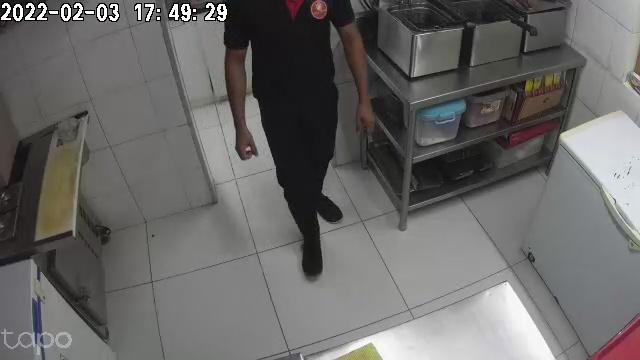no_gloves: (231, 112, 258, 159), (355, 88, 371, 137)
